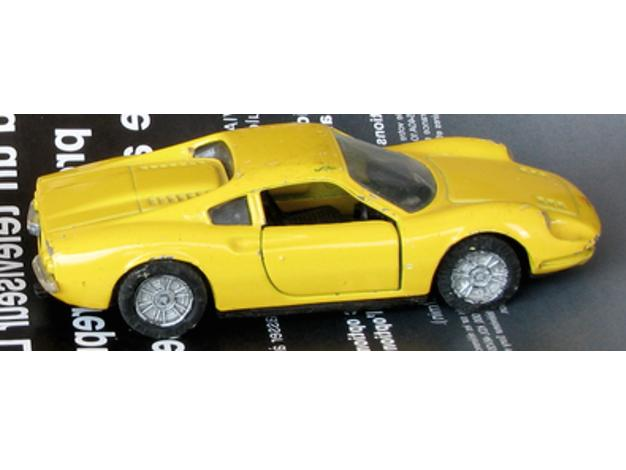toy-car: (24, 121, 604, 341)
